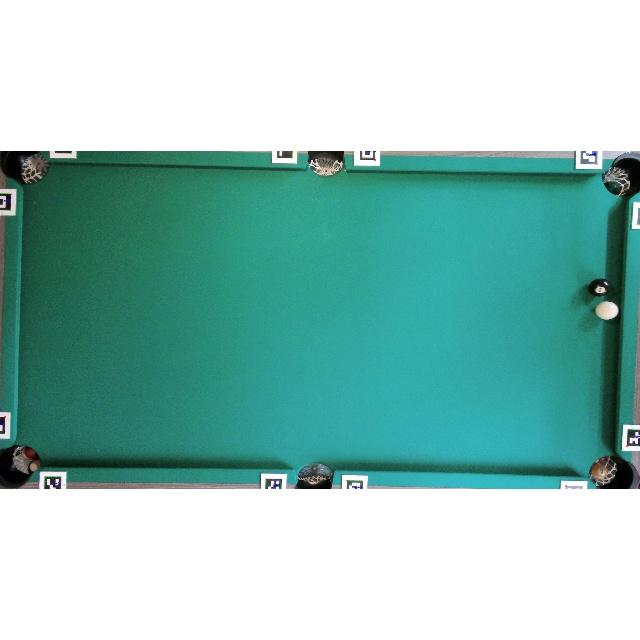cue ball: (594, 300, 620, 320)
other: (588, 278, 611, 297)
